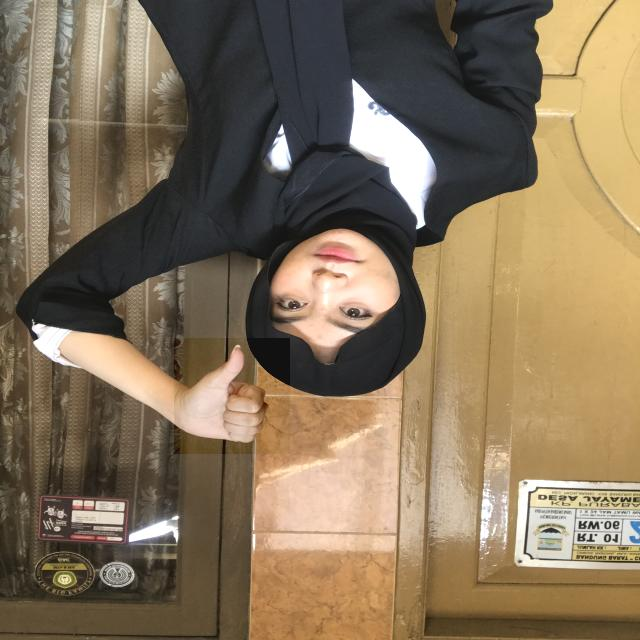sedih: (173, 338, 290, 453)
